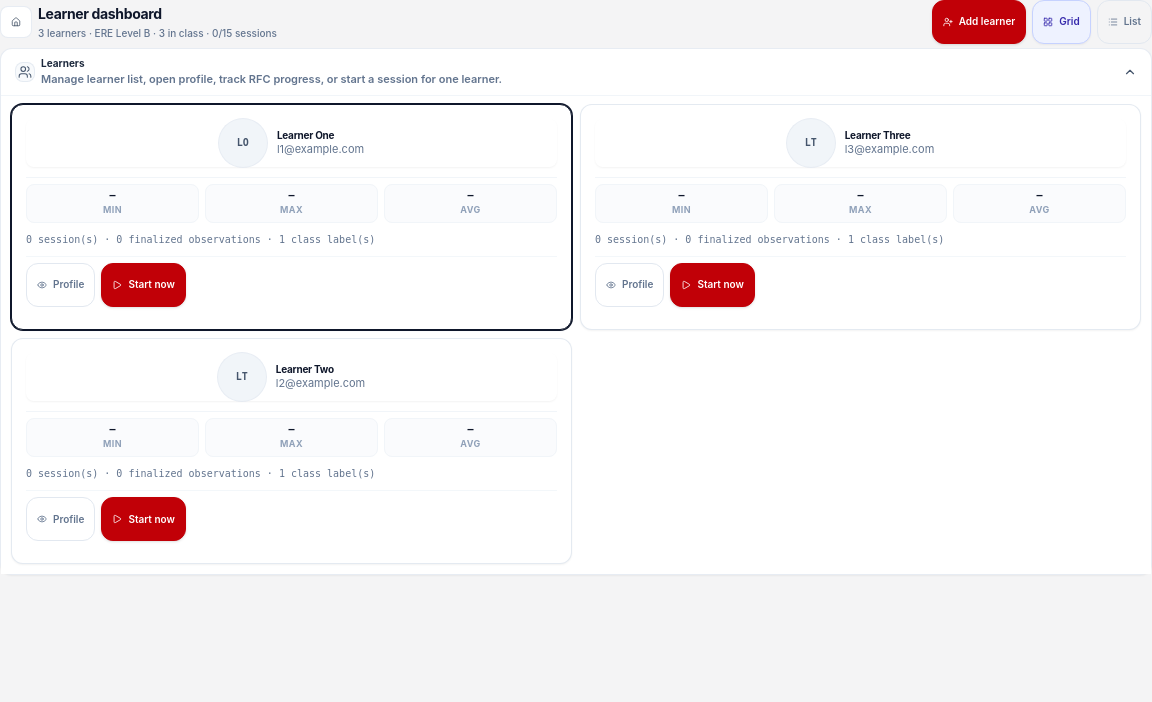
Test case: TeacherOverviewPage - Add Learner › opens New Learner panel when Add learner button is clicked
Step 1. Click the button "Add learner" → (979, 22), box [932,0,1026,44]
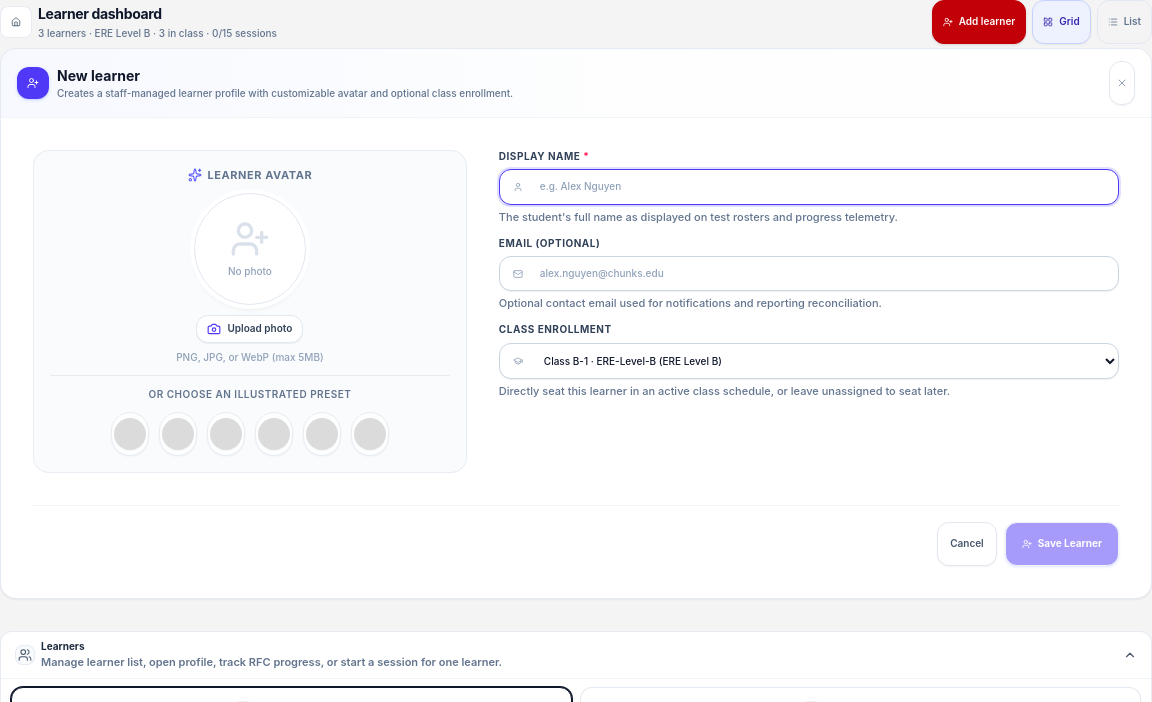
Check: the heading "New learner" is shown, box [57,68,140,84]
Check: the field labelled "Display Name *" is shown, box [499,169,1119,205]
Check: the field labelled "Email (optional)" is shown, box [499,256,1119,291]
